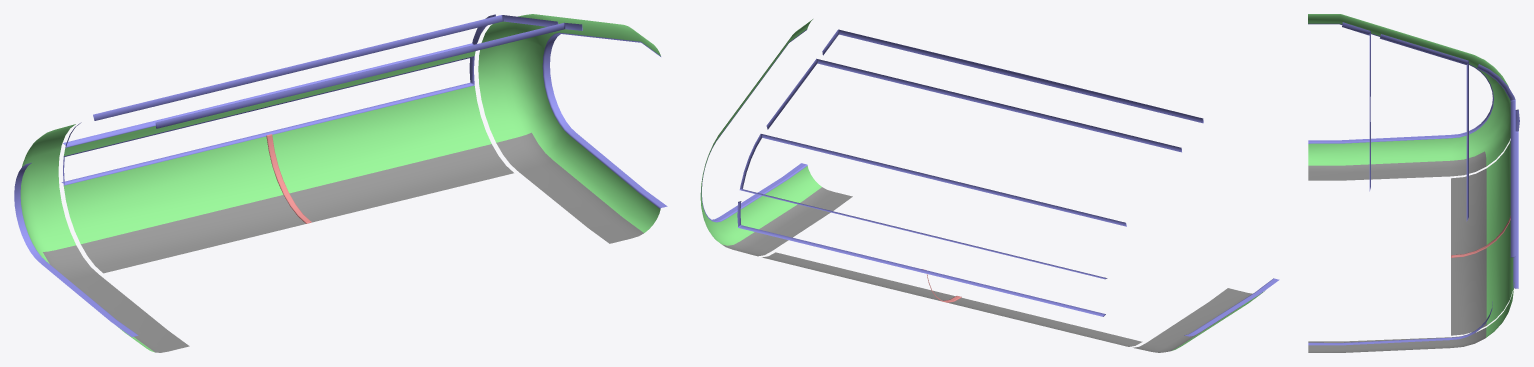
The model's file is Woods_Field_Goal.gltf.
The picture shows the model from 3 angles, left to right: view 1: azimuth 30°, elevation 25°; view 2: azimuth 150°, elevation 25°; view 3: azimuth 270°, elevation 25°; orthographic projection. The views are drawn at different scales.
Parts seen in each view (by area): view 1: Woods_Field_Goal; view 2: Woods_Field_Goal; view 3: Woods_Field_Goal.
Boxes of the visible parts, x1,y1,x2,y2 form: Woods_Field_Goal: [14, 14, 667, 352]; Woods_Field_Goal: [700, 19, 1279, 352]; Woods_Field_Goal: [1308, 14, 1519, 352].
Size of the model in its own units: 18.34 by 6.69 by 8.
